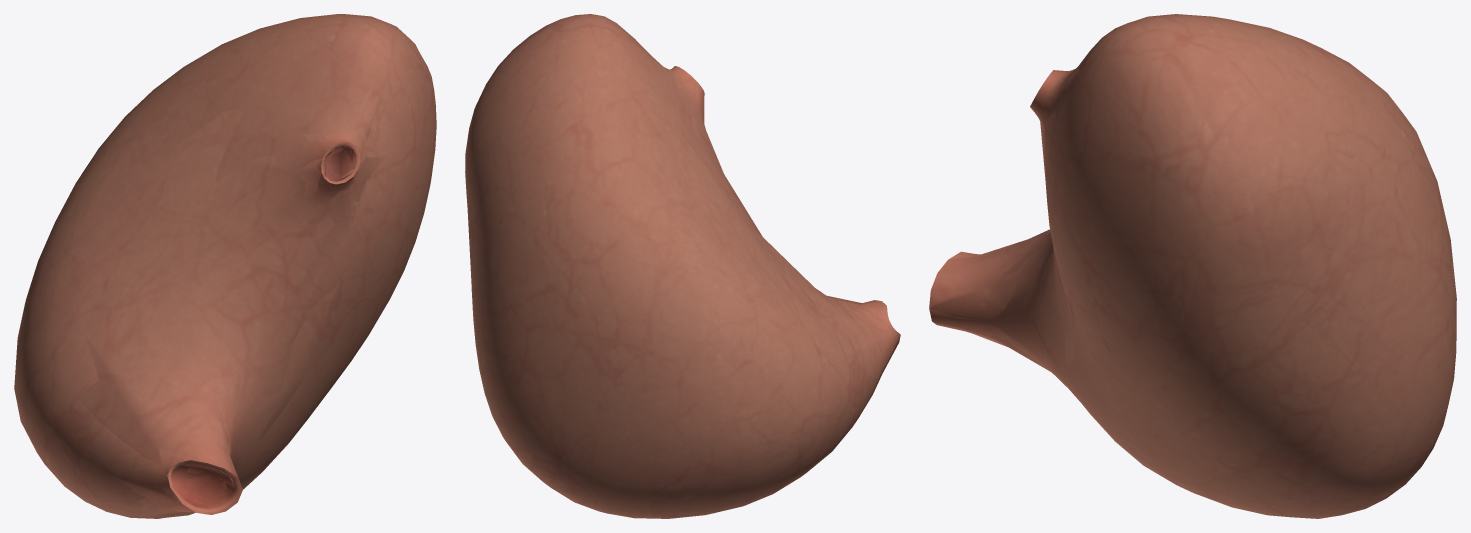
File: Stomach.fbx
3 views of the same model, side by side, from view 1: azimuth 30°, elevation 25°; view 2: azimuth 150°, elevation 25°; view 3: azimuth 270°, elevation 25° (orthographic). The views are drawn at different scales.
Parts seen in each view (by area): view 1: Stomach, Stomach low, Stomach high; view 2: Stomach, Stomach low, Stomach high; view 3: Stomach, Stomach low, Stomach high.
Part boxes in pixels (<box>): Stomach: <box>14,14,436,518</box>; Stomach low: <box>21,17,430,517</box>; Stomach high: <box>20,21,435,516</box>; Stomach: <box>465,14,900,518</box>; Stomach low: <box>465,14,900,516</box>; Stomach high: <box>466,18,897,516</box>; Stomach: <box>929,14,1456,518</box>; Stomach low: <box>929,17,1433,492</box>; Stomach high: <box>934,16,1456,512</box>.
Size of the model in its own units: 13.95 by 15.93 by 13.72.
